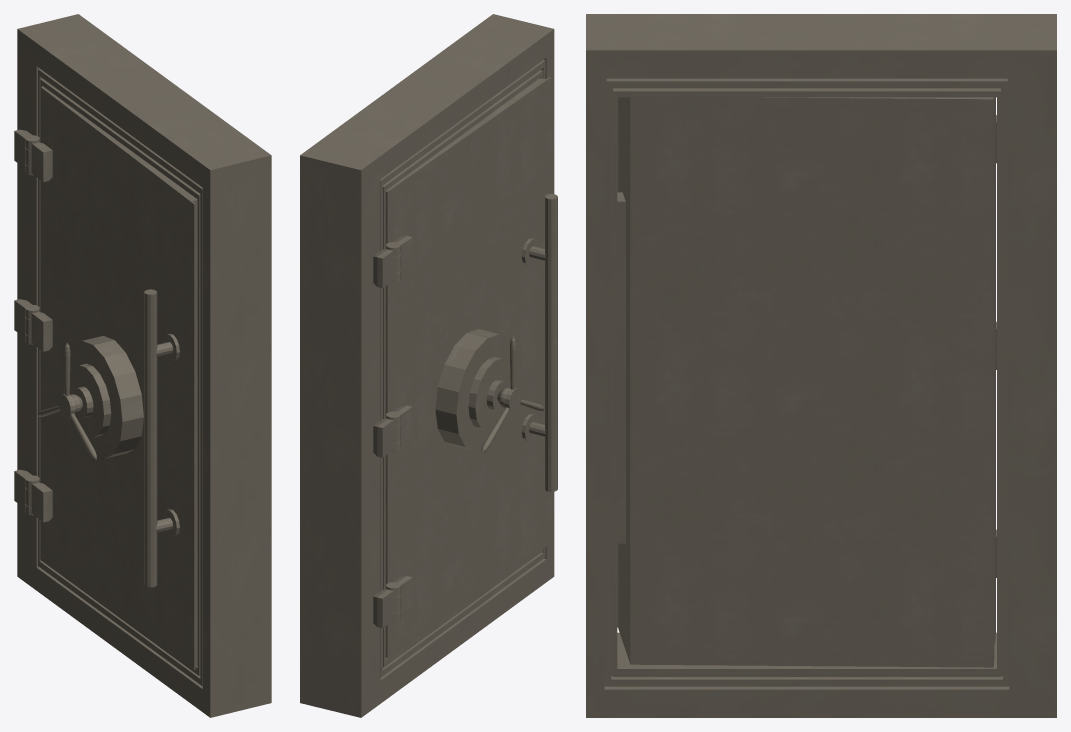
The model's file is Vault_door.fbx.
3 renders of one model, left to right at view 1: azimuth 30°, elevation 25°; view 2: azimuth 150°, elevation 25°; view 3: azimuth 270°, elevation 25°, orthographic. The views are drawn at different scales.
Parts seen in each view (by area): view 1: vault_doorarch, vault_door; view 2: vault_door, vault_doorarch; view 3: vault_door, vault_doorarch.
Boxes of the visible parts, x1,y1,x2,y2 form: vault_doorarch: (14,14,271,717); vault_door: (31,86,197,670); vault_door: (385,77,557,657); vault_doorarch: (300,14,554,717); vault_door: (617,97,995,667); vault_doorarch: (586,14,1056,717).
Bounding box in the file's own units: 55.86 × 250 × 160.
2 materials, 2 textured.
